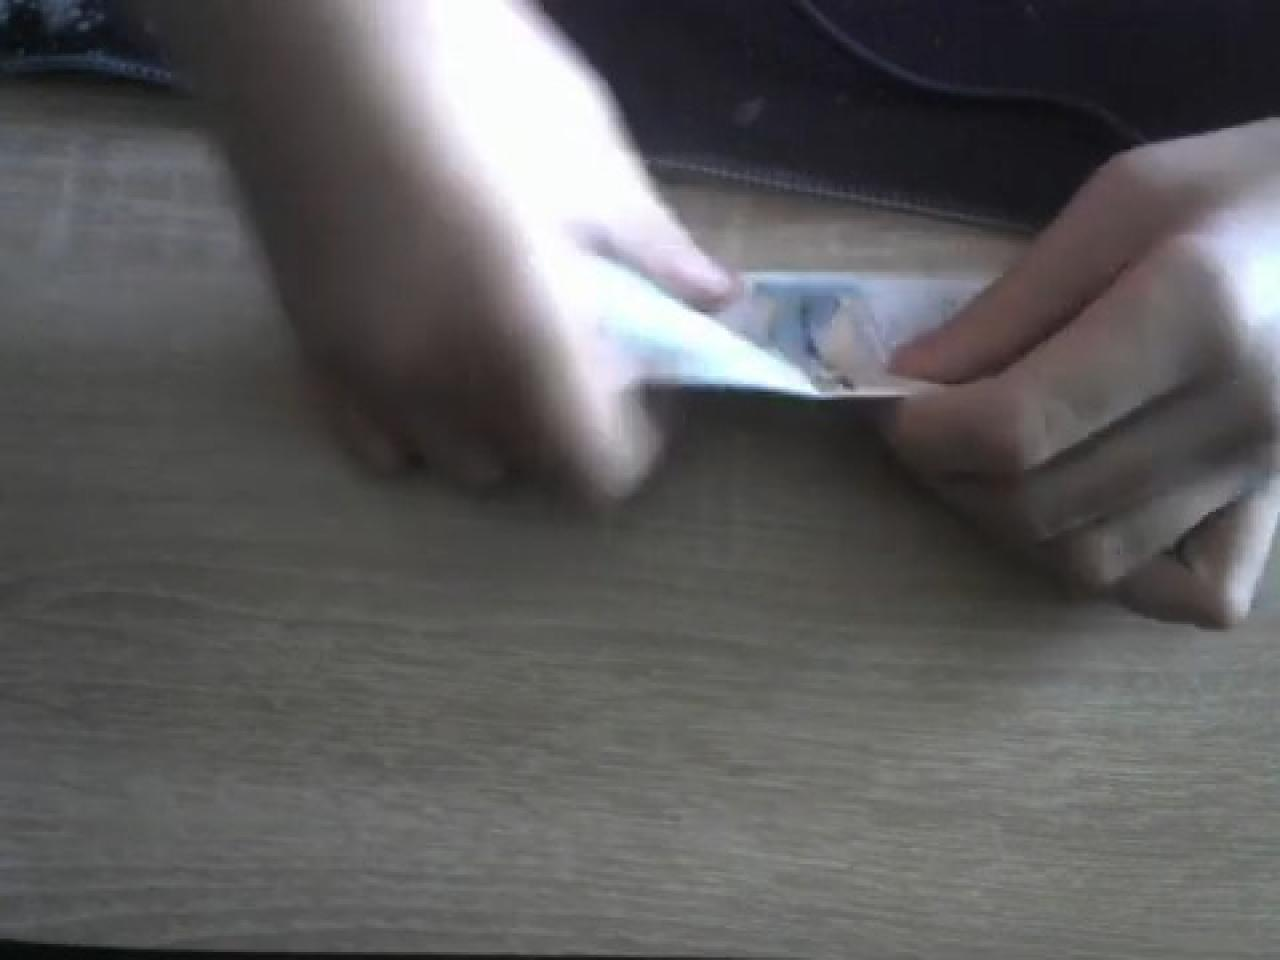20leva: (608, 266, 922, 408)
